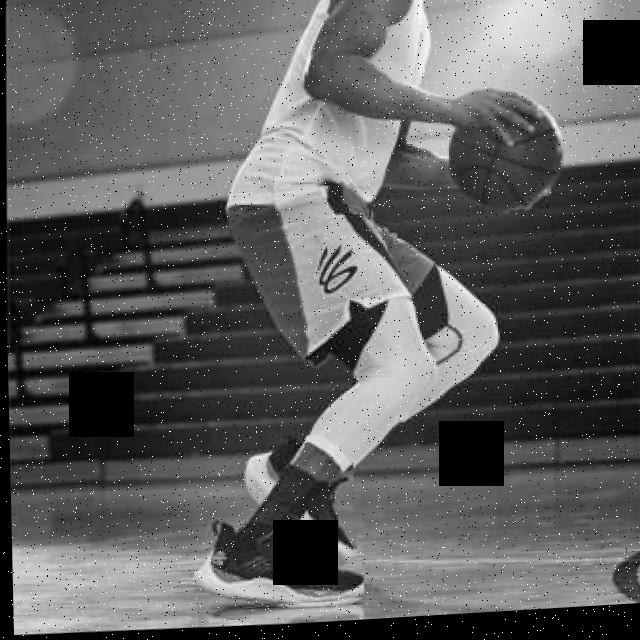shoe: (189, 512, 362, 617), (240, 436, 353, 579)
